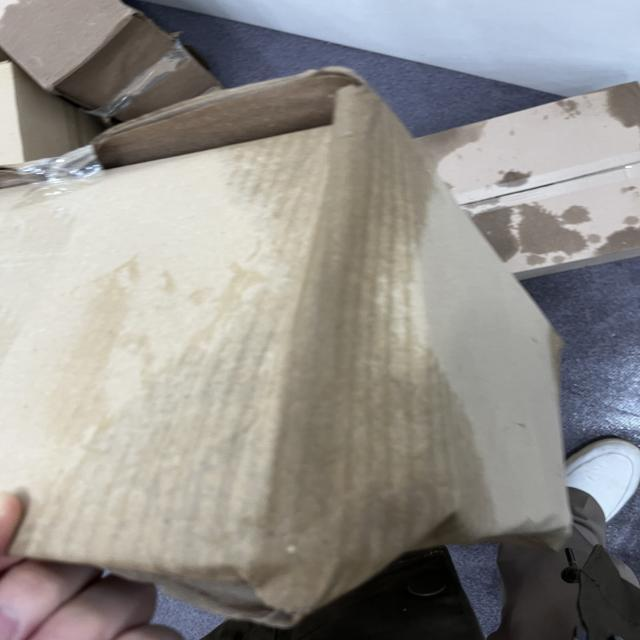wet: (36, 95, 483, 576)
